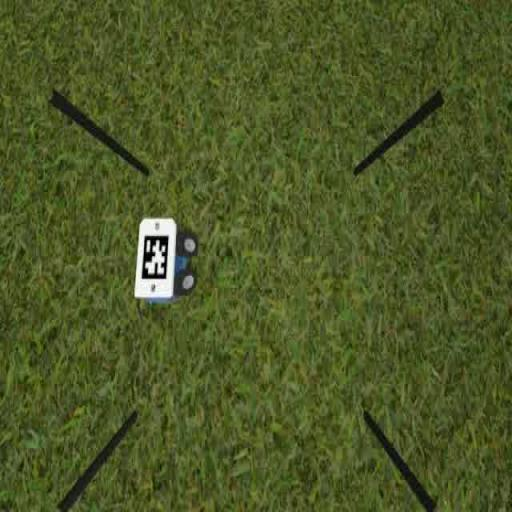UGV: (134, 218, 198, 306)
